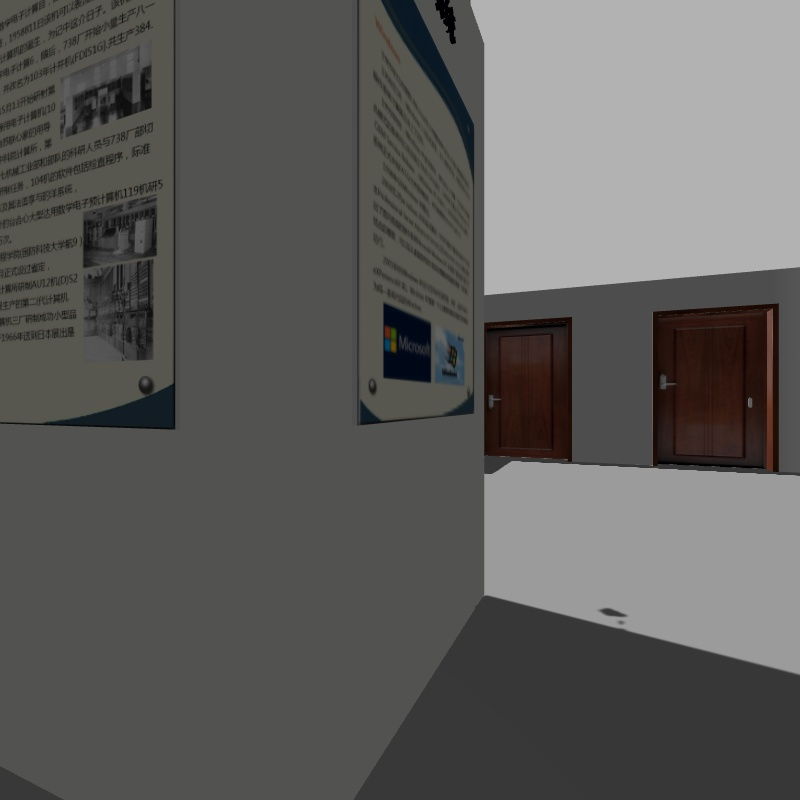handle: (650, 369, 677, 394), (482, 384, 504, 412)
